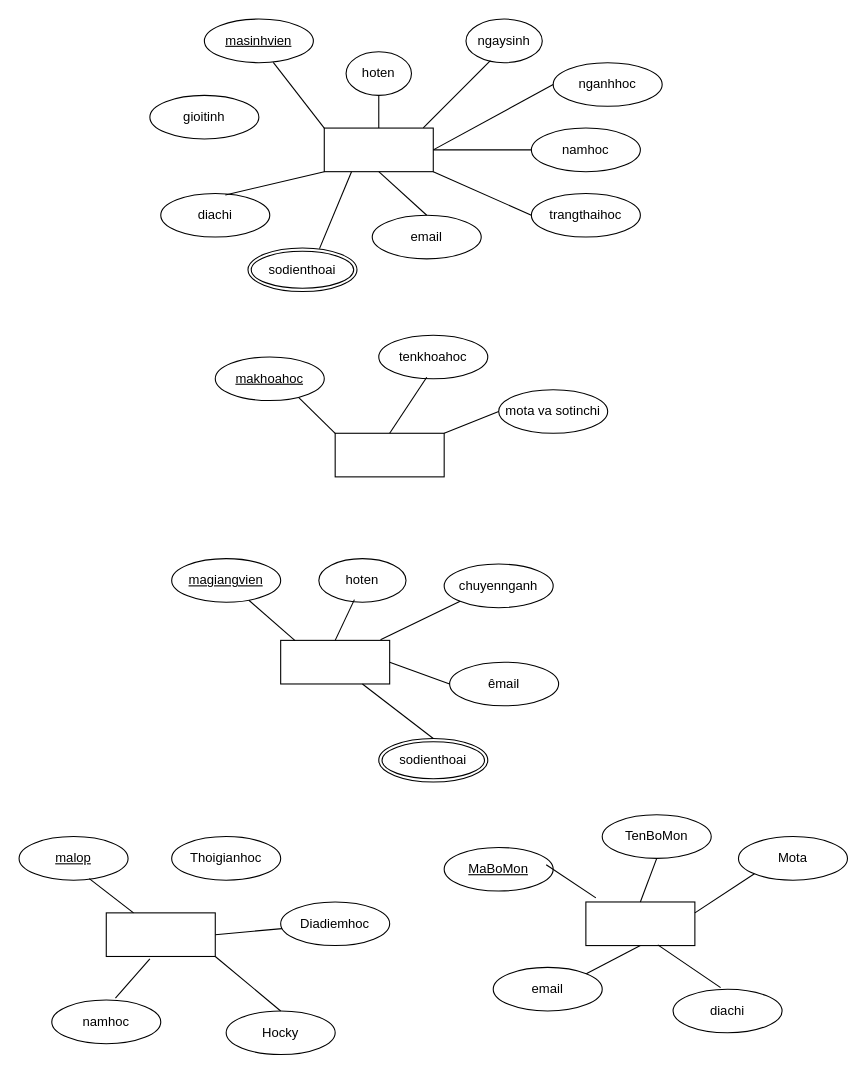
Some shapes in this 867 by 1074 pixel diagram are drawn without their labels. The box of each missing label's shape, as (x1, y1, x2, y2) in pixels:
Bomon/Phongban: (585, 901, 695, 946)
giangvien: (280, 639, 390, 684)
khoahoc: (334, 432, 444, 477)
LopHocPhan: (105, 912, 215, 956)
SINHVIEN: (323, 127, 433, 172)
